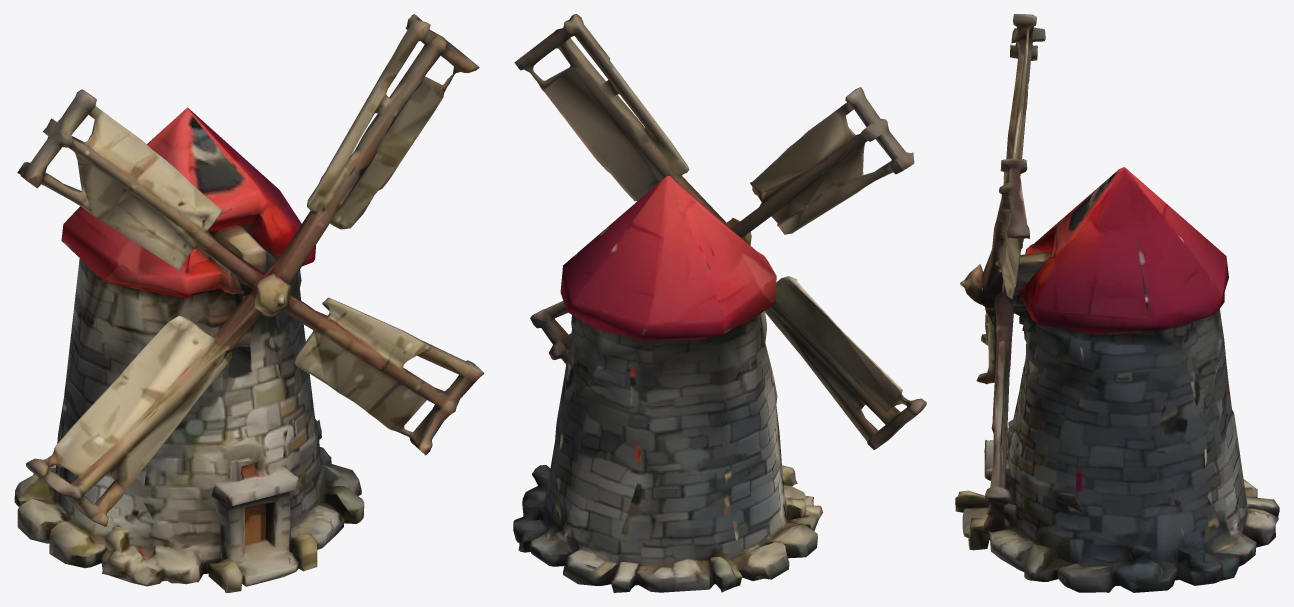
The model's file is mill.glb.
The picture shows the model from 3 angles, left to right: view 1: azimuth 30°, elevation 25°; view 2: azimuth 150°, elevation 25°; view 3: azimuth 270°, elevation 25°; orthographic projection. The views are drawn at different scales.
Visible parts, largest first — view 1: tripo_node_f3bb3571; view 2: tripo_node_f3bb3571; view 3: tripo_node_f3bb3571.
Part boxes in pixels (bbox=[...]): tripo_node_f3bb3571: bbox=[14, 14, 484, 592]; tripo_node_f3bb3571: bbox=[513, 14, 926, 592]; tripo_node_f3bb3571: bbox=[955, 14, 1279, 592].
Size of the model in its own units: 92.85 by 99.45 by 64.89.
Materials: 1 (1 with a texture image).
